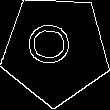O_E: (30, 27, 81, 72)
